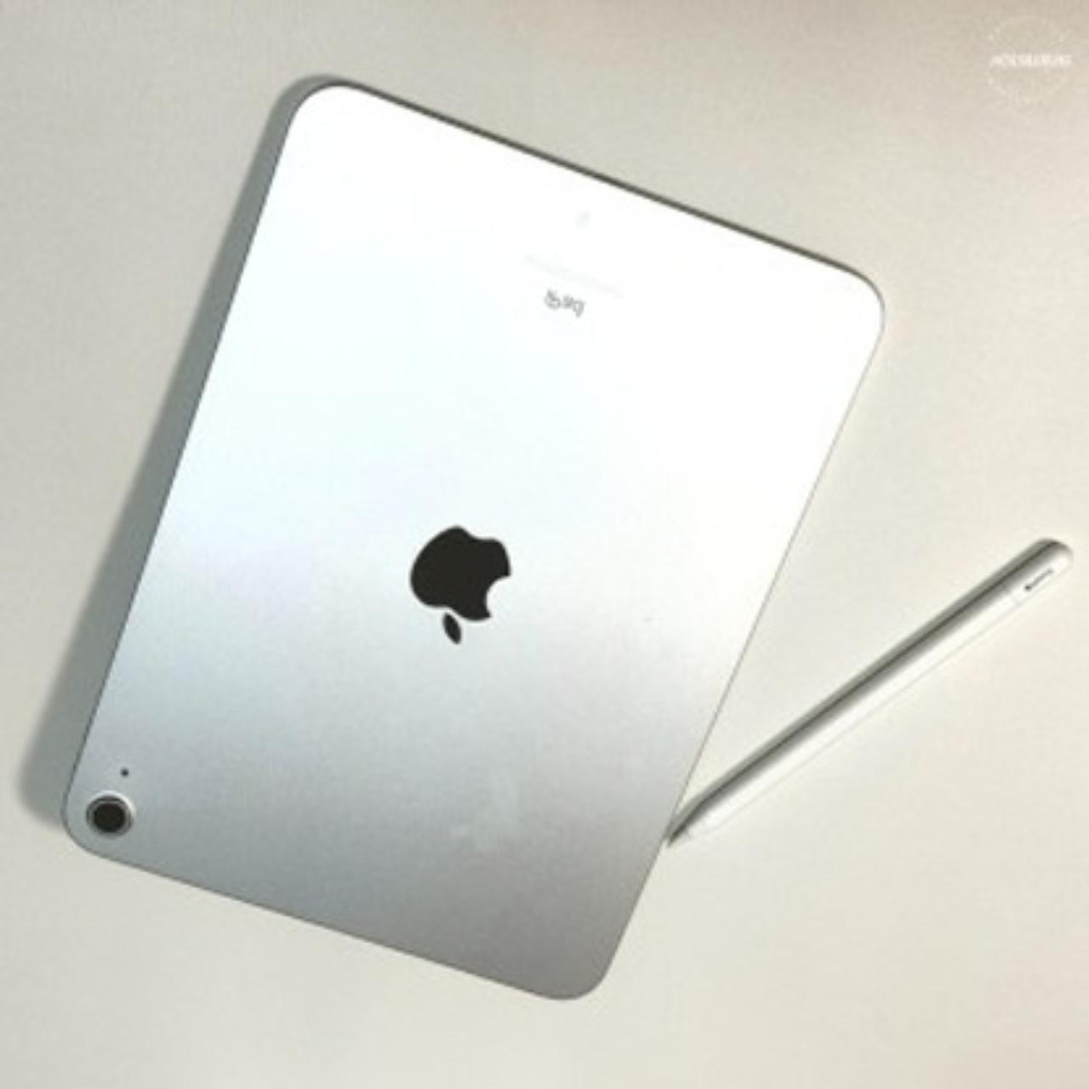Tablet_PC: (44, 74, 905, 1010)
